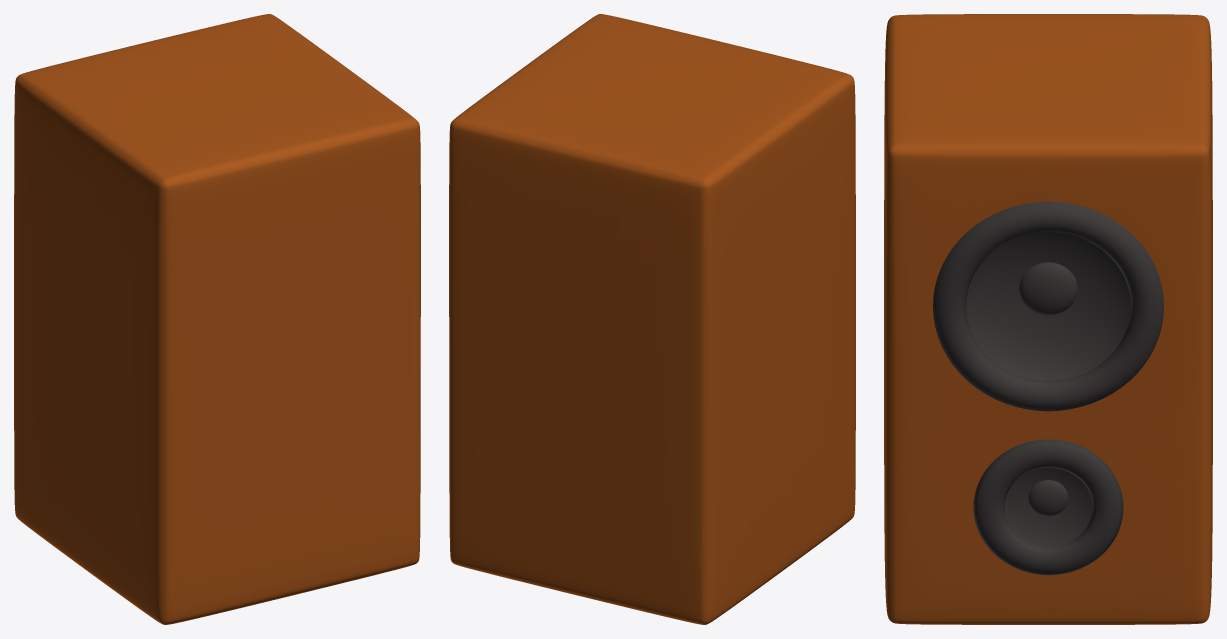
The model's file is speaker.gltf.
The picture shows the model from 3 angles, left to right: view 1: azimuth 30°, elevation 25°; view 2: azimuth 150°, elevation 25°; view 3: azimuth 270°, elevation 25°; orthographic projection. The views are drawn at different scales.
Parts seen in each view (by area): view 1: Cube.001_Speaker_0; view 2: Cube.001_Speaker_0; view 3: Cube.001_Speaker_0.
Boxes of the visible parts, x1,y1,x2,y2 form: Cube.001_Speaker_0: (14, 14, 420, 624); Cube.001_Speaker_0: (449, 14, 855, 624); Cube.001_Speaker_0: (884, 14, 1212, 624).
Size of the model in its own units: 2.36 by 3.66 by 2.26.
Materials: 1 (1 with a texture image).
